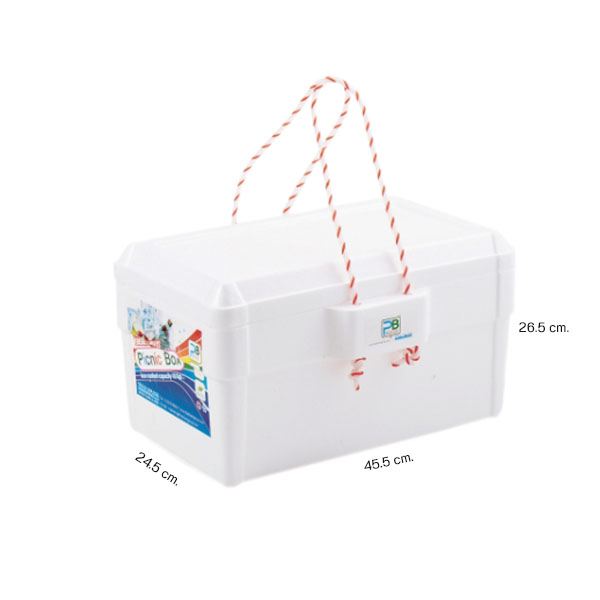FoamBox: (107, 72, 520, 489)
